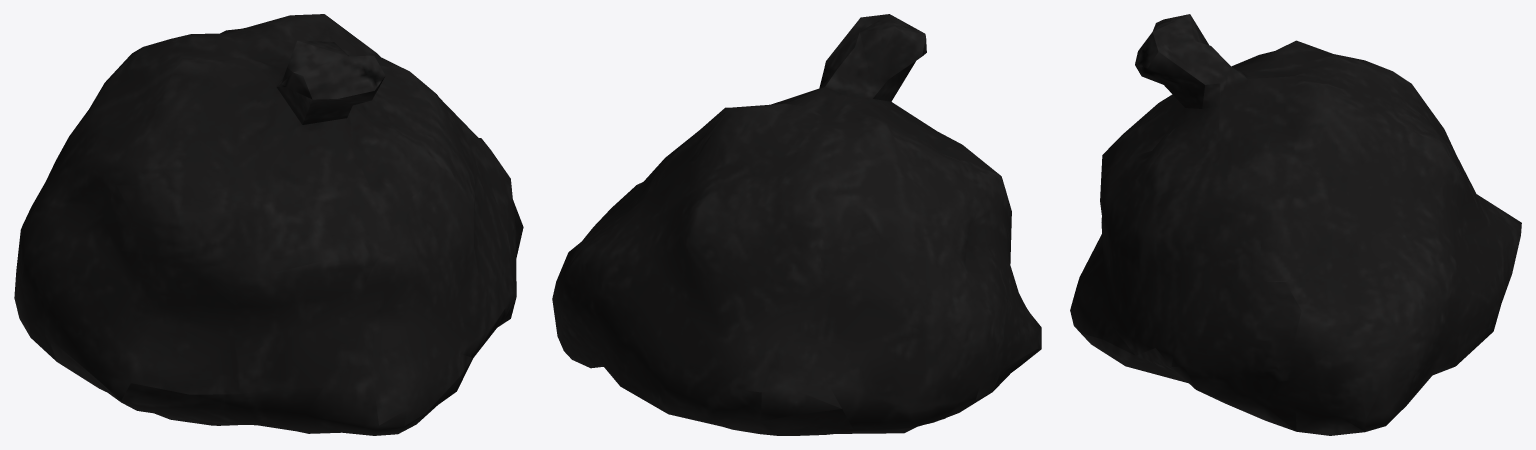
The model's file is trash_bag_b.glb.
The picture shows the model from 3 angles, left to right: view 1: azimuth 30°, elevation 25°; view 2: azimuth 150°, elevation 25°; view 3: azimuth 270°, elevation 25°; orthographic projection. The views are drawn at different scales.
Parts seen in each view (by area): view 1: mesh; view 2: mesh; view 3: mesh.
Boxes of the visible parts, left/top/right/bottom form: mesh: left=14, top=14, right=523, bottom=435; mesh: left=552, top=14, right=1041, bottom=435; mesh: left=1070, top=14, right=1521, bottom=435.
Bounding box in the file's own units: 0.4296 × 0.336 × 0.4128.
1 material, 1 textured.
